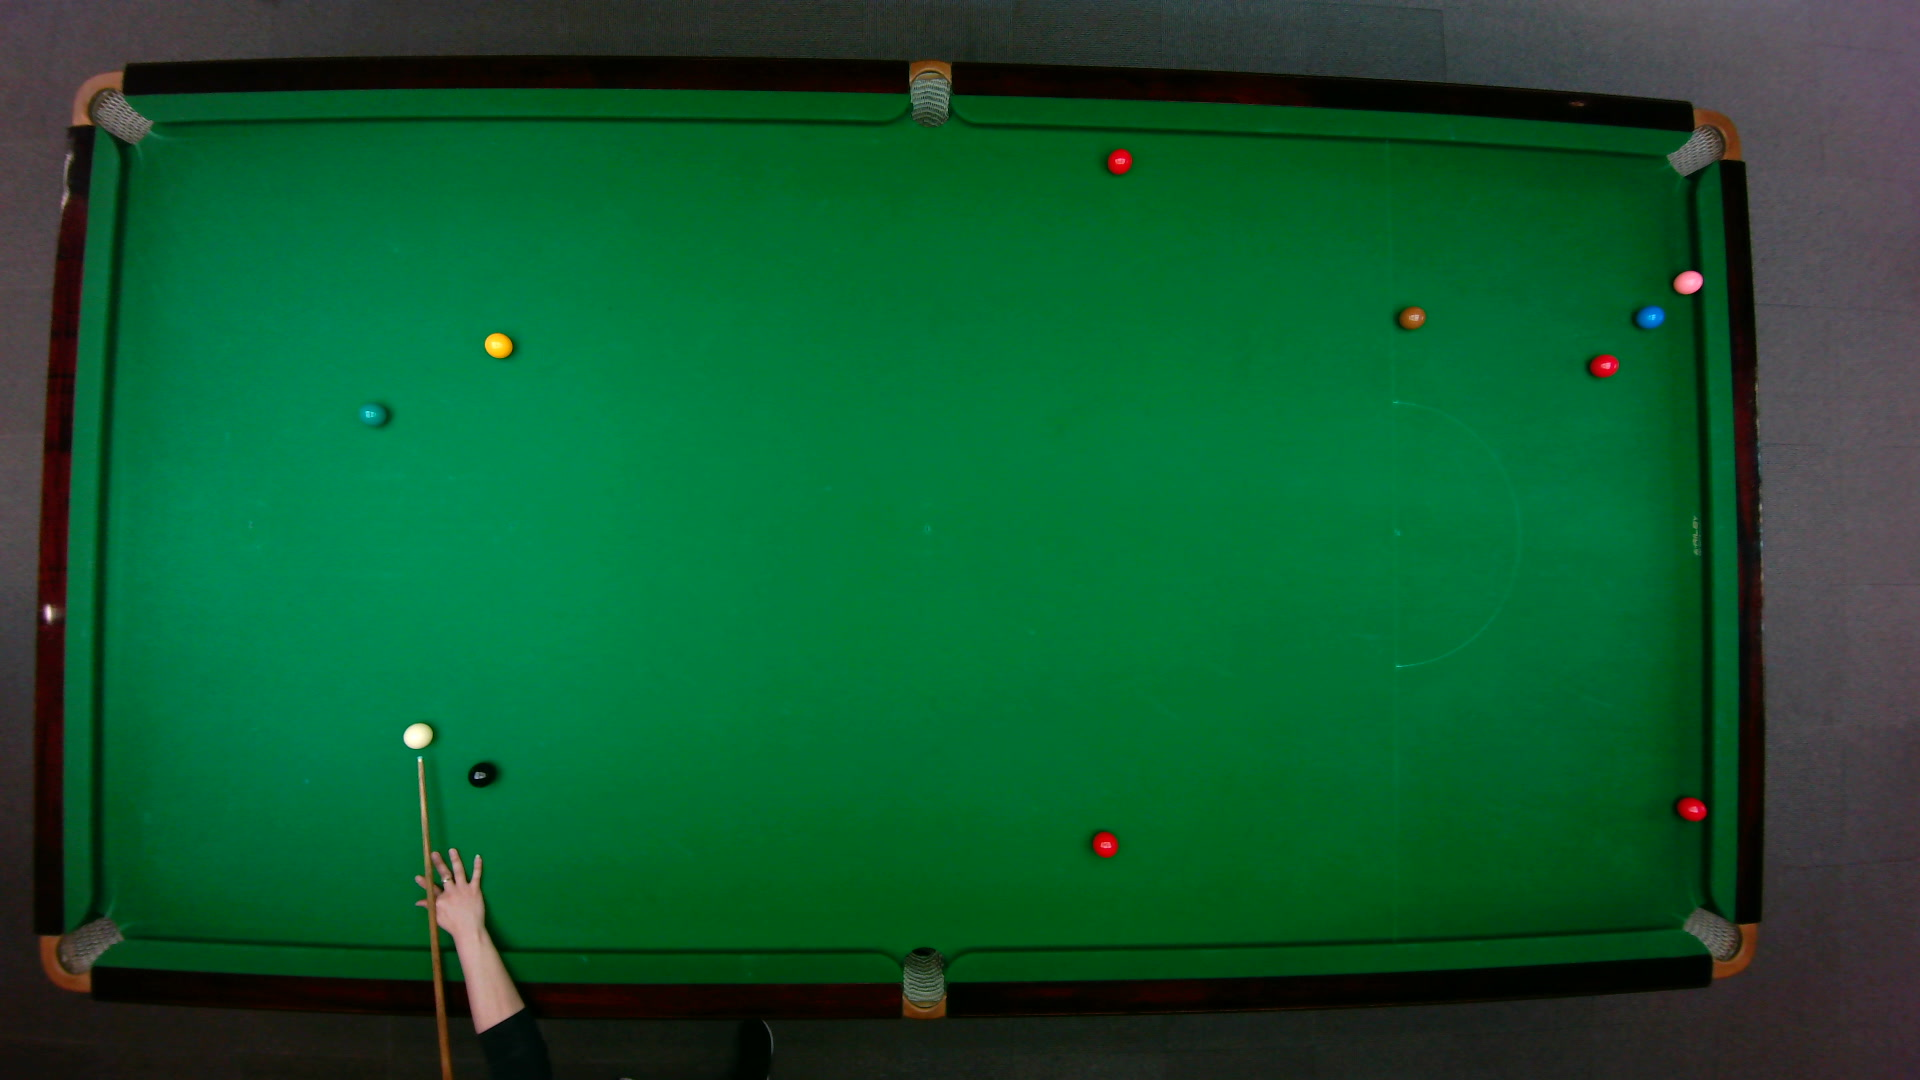bag: (37, 914, 125, 993), (69, 70, 152, 144), (1679, 905, 1756, 978), (1663, 107, 1741, 177), (901, 944, 944, 1021), (909, 57, 949, 128)
black: (465, 760, 496, 789)
blue: (1634, 303, 1665, 328)
brown: (1396, 305, 1427, 328)
cue: (417, 756, 452, 1080)
green: (356, 400, 386, 427)
pink: (1669, 266, 1704, 295)
red: (1089, 828, 1120, 858), (1673, 795, 1708, 822), (1104, 146, 1133, 175), (1586, 352, 1619, 377)
white: (401, 720, 434, 749)
yellow: (483, 330, 513, 359)
zone: (1390, 400, 1520, 669)
